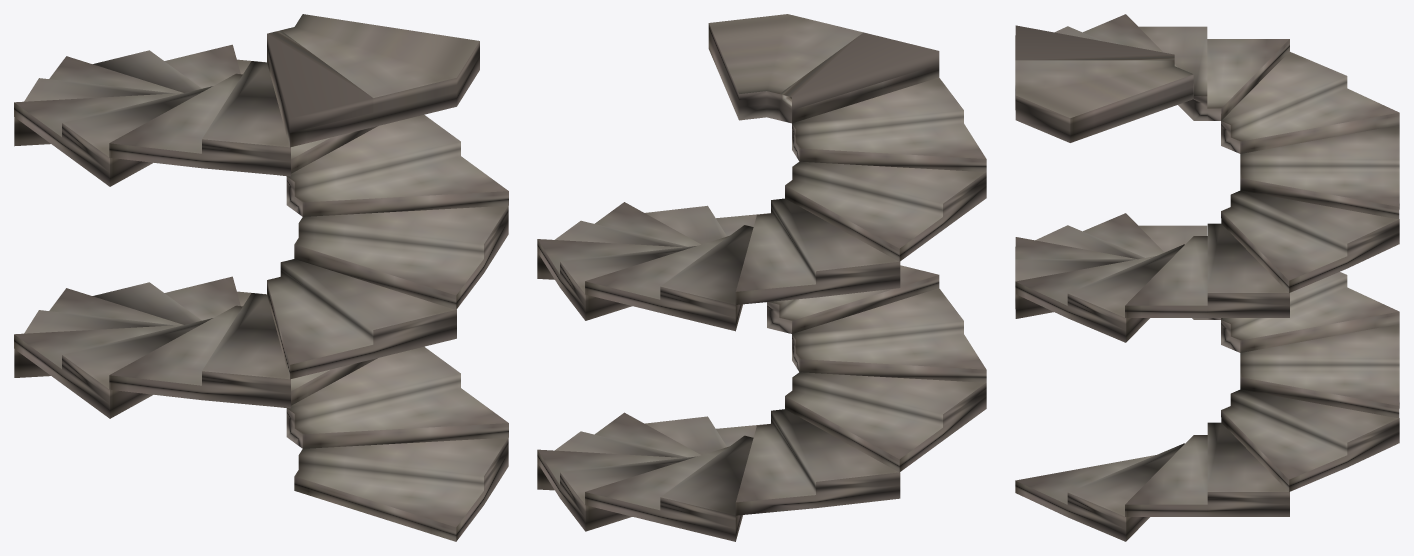
Rendered from spiral_stair.glb.
3 renders of one model, left to right at view 1: azimuth 30°, elevation 25°; view 2: azimuth 150°, elevation 25°; view 3: azimuth 270°, elevation 25°, orthographic. The views are drawn at different scales.
Parts seen in each view (by area): view 1: spiral_stair; view 2: spiral_stair; view 3: spiral_stair.
Boxes of the visible parts, box(x1,y1,x2,y2) form: spiral_stair: box(14, 14, 508, 541); spiral_stair: box(537, 14, 986, 541); spiral_stair: box(1015, 14, 1399, 541).
Size of the model in its own units: 7.21 by 8 by 7.01.
1 material, 1 textured.
